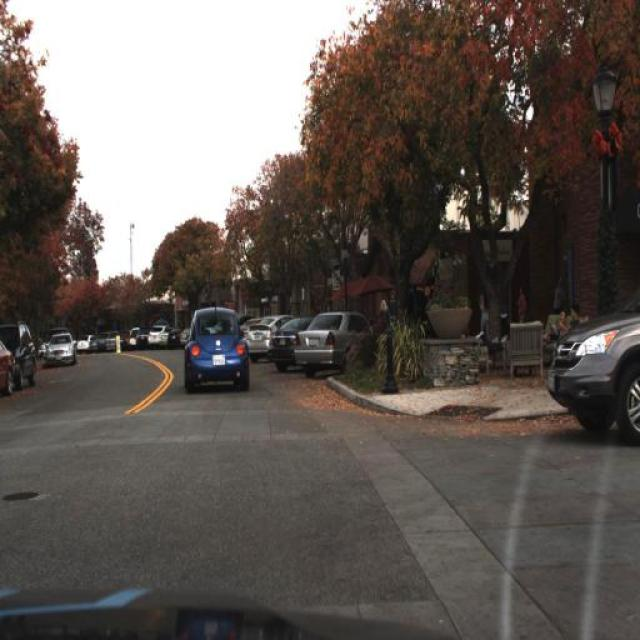car: (546, 302, 640, 442), (181, 291, 253, 401), (295, 311, 377, 380), (0, 317, 36, 388), (268, 314, 310, 374), (0, 329, 18, 398), (246, 316, 274, 360), (44, 332, 78, 366), (148, 322, 168, 348), (77, 332, 93, 352)
trafficLight: (477, 287, 491, 348), (552, 304, 567, 358), (378, 296, 392, 346), (551, 274, 565, 321), (566, 304, 582, 332), (516, 286, 528, 313)
